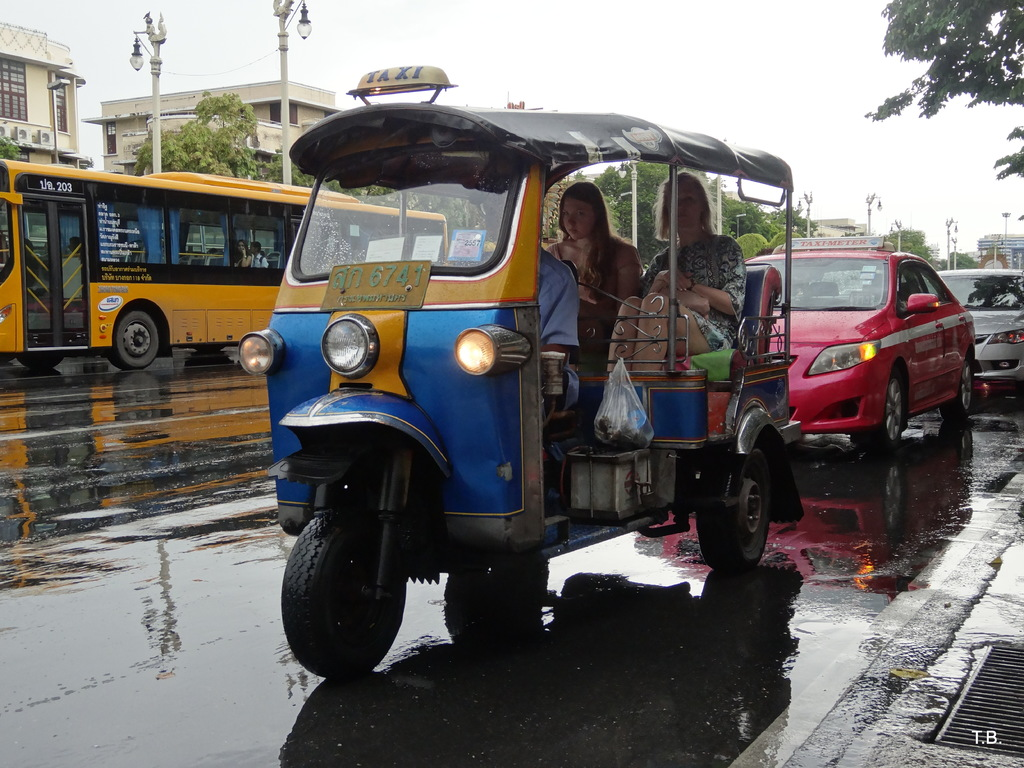Car: (731, 234, 979, 472), (924, 267, 1023, 408)
